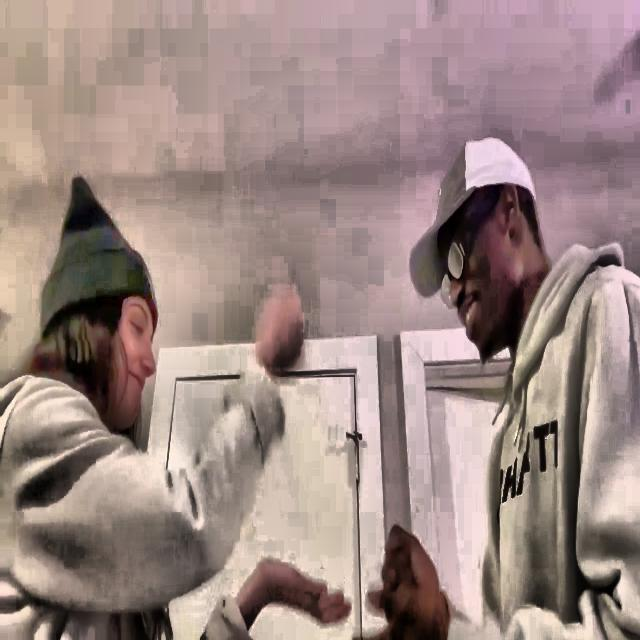not-gloved: (379, 524, 437, 596), (258, 289, 306, 373)
